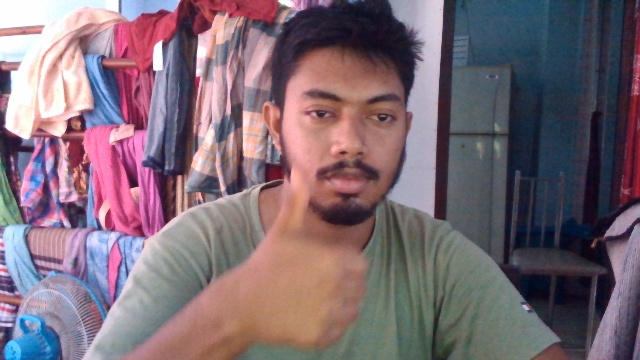yes: (255, 168, 368, 360)
